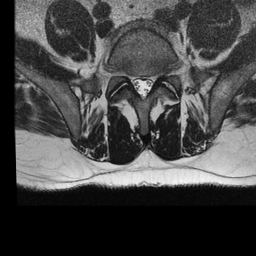CCS_normal: (138, 69, 145, 105)
LFS_stenosis: (155, 64, 163, 84)
LLS_normal: (146, 69, 154, 96)
RFS_severe_stenosis: (123, 62, 131, 86)
RLS_normal: (130, 68, 138, 97)
